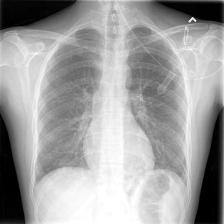normal: (30, 22, 190, 188)
